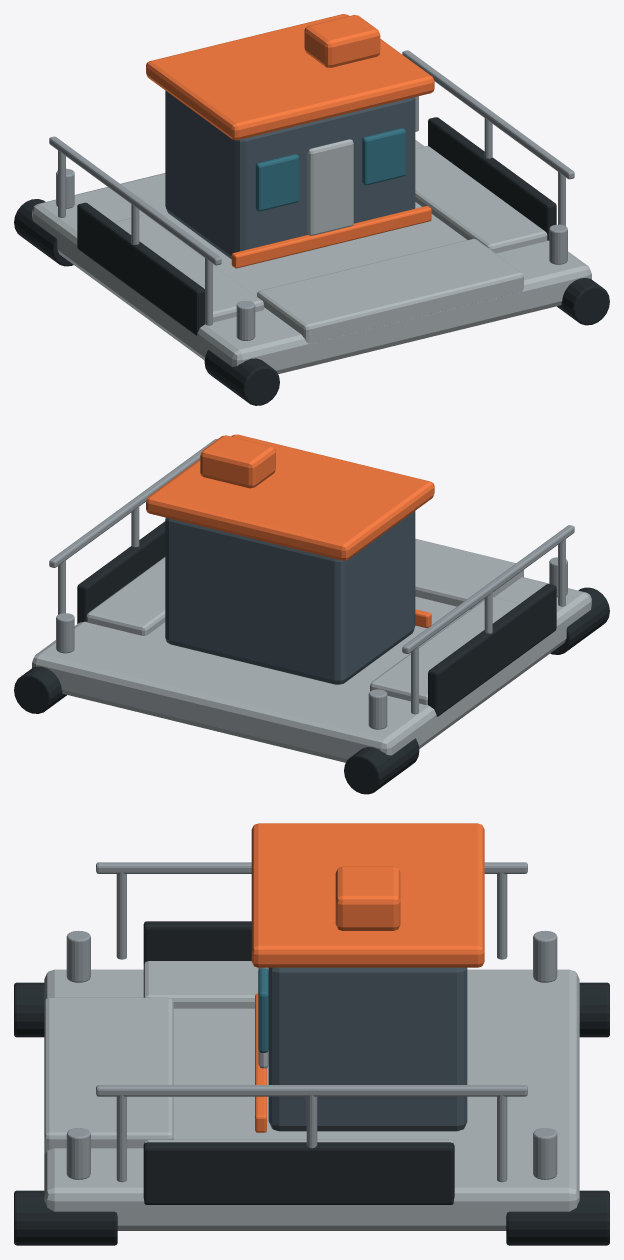
File: BaseStation_Blockout.fbx
The picture shows the model from 3 angles, top to bottom: view 1: azimuth 30°, elevation 25°; view 2: azimuth 150°, elevation 25°; view 3: azimuth 270°, elevation 25°; orthographic projection. The views are drawn at different scales.
Visible parts, largest first — view 1: BaseStation_Platform, BaseStation_OperationsCabin, BaseStation_Roof, BaseStation_FrontApron, BaseStation_StarboardDock, BaseStation_PortFenderOuter, BaseStation, BaseStation_StarboardFenderOuter, BaseStation_Door, BaseStation_PortDock, BaseStation_SafetyStripe, BaseStation_RoofVent (+5 smaller); view 2: BaseStation_Platform, BaseStation_OperationsCabin, BaseStation_Roof, BaseStation_PortFenderOuter, BaseStation_FrontApron, BaseStation_PortDock, BaseStation_StarboardDock, BaseStation_StarboardFenderOuter, BaseStation_RoofVent, BaseStation_Float_-0.285_+0.285, BaseStation_RailTop_L, BaseStation (+5 smaller); view 3: BaseStation_Platform, BaseStation_OperationsCabin, BaseStation_Roof, BaseStation_StarboardFenderOuter, BaseStation_FrontApron, BaseStation, BaseStation_RailTop_R, BaseStation_PortDock, BaseStation_PortFenderOuter, BaseStation_Float_+0.285_+0.285, BaseStation_Float_+0.285_-0.285, BaseStation_RoofVent (+10 smaller).
Part boxes in pixels (x1,y1,x2,y2): BaseStation_Platform: [32, 140, 591, 374]; BaseStation_OperationsCabin: [165, 90, 415, 259]; BaseStation_Roof: [146, 14, 434, 140]; BaseStation_FrontApron: [257, 239, 523, 343]; BaseStation_StarboardDock: [415, 146, 547, 253]; BaseStation_PortFenderOuter: [77, 202, 204, 335]; BaseStation: [56, 128, 567, 340]; BaseStation_StarboardFenderOuter: [428, 117, 556, 240]; BaseStation_Door: [307, 139, 353, 235]; BaseStation_PortDock: [114, 215, 263, 322]; BaseStation_SafetyStripe: [231, 206, 431, 268]; BaseStation_RoofVent: [304, 15, 380, 67]; BaseStation_Platform: [32, 577, 591, 762]; BaseStation_OperationsCabin: [165, 511, 415, 684]; BaseStation_Roof: [146, 434, 434, 560]; BaseStation_PortFenderOuter: [428, 584, 556, 716]; BaseStation_FrontApron: [415, 538, 523, 609]; BaseStation_PortDock: [370, 597, 519, 704]; BaseStation_StarboardDock: [86, 557, 165, 635]; BaseStation_StarboardFenderOuter: [77, 521, 165, 623]; BaseStation_RoofVent: [200, 435, 275, 488]; BaseStation_Float_-0.285_+0.285: [344, 738, 419, 794]; BaseStation_RailTop_L: [402, 525, 574, 653]; BaseStation: [56, 557, 567, 729]; BaseStation_Platform: [44, 969, 579, 1230]; BaseStation_OperationsCabin: [268, 967, 467, 1131]; BaseStation_Roof: [251, 823, 484, 967]; BaseStation_StarboardFenderOuter: [143, 1142, 454, 1204]; BaseStation_FrontApron: [44, 997, 173, 1154]; BaseStation: [66, 930, 557, 1179]; BaseStation_RailTop_R: [96, 1085, 527, 1096]; BaseStation_PortDock: [143, 961, 258, 1008]; BaseStation_PortFenderOuter: [143, 921, 251, 964]; BaseStation_Float_+0.285_+0.285: [506, 1190, 609, 1245]; BaseStation_Float_+0.285_-0.285: [14, 1190, 117, 1245]; BaseStation_RoofVent: [335, 866, 400, 930].
Size of the model in its own units: 0.634 by 0.3715 by 0.69.
